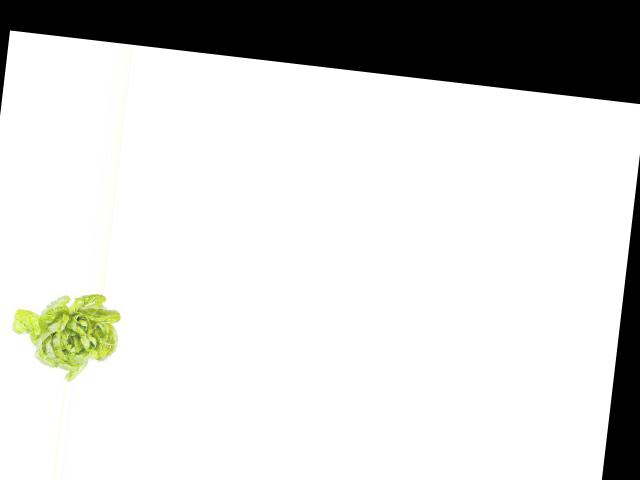lettuce: (3, 287, 124, 386)
